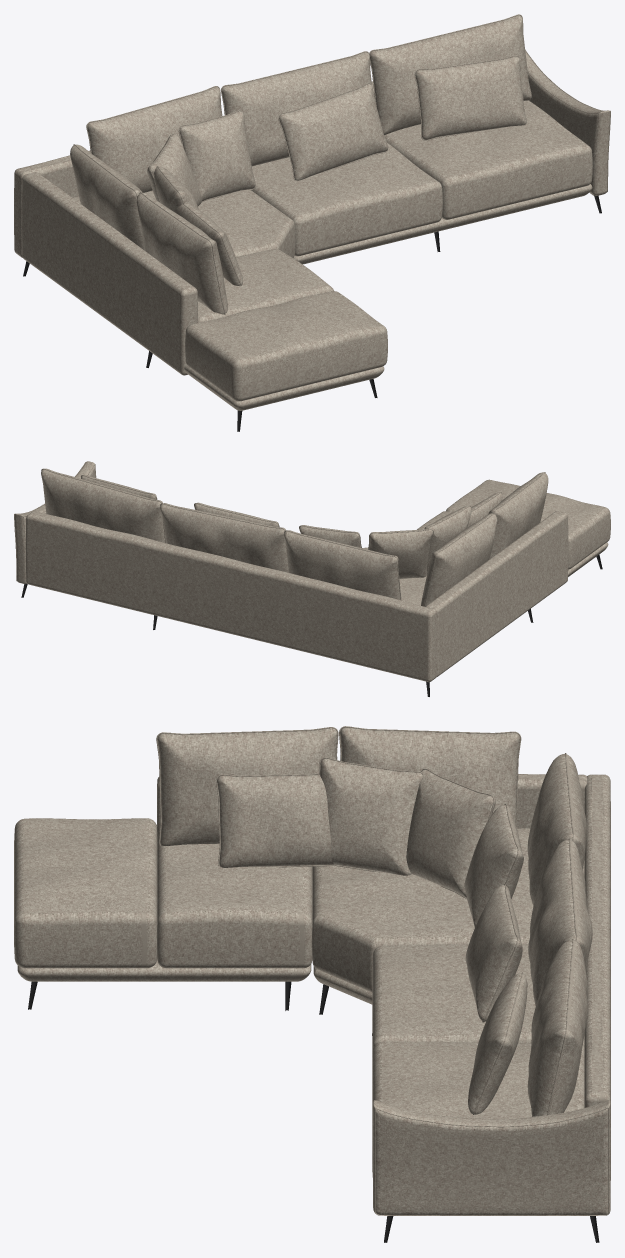
File: chaise.glb
3 renders of one model, top to bottom at view 1: azimuth 30°, elevation 25°; view 2: azimuth 150°, elevation 25°; view 3: azimuth 270°, elevation 25°, orthographic. The views are drawn at different scales.
Parts seen in each view (by area): view 1: fabric (×2), pillows (×2); view 2: fabric (×2), pillows (×2); view 3: fabric (×2), pillows (×2), legs.
Part boxes in pixels (box(x1,y1,x2,y2)): fabric (×2): box(14, 14, 610, 410); pillows (×2): box(147, 55, 526, 285); fabric (×2): box(14, 461, 610, 682); pillows (×2): box(81, 475, 502, 578); fabric (×2): box(14, 726, 610, 1215); pillows (×2): box(216, 757, 527, 1114); legs: box(28, 981, 599, 1242).
Size of the model in its own units: 3.3 by 0.9451 by 2.5.
Materials: 3 (2 with a texture image).
